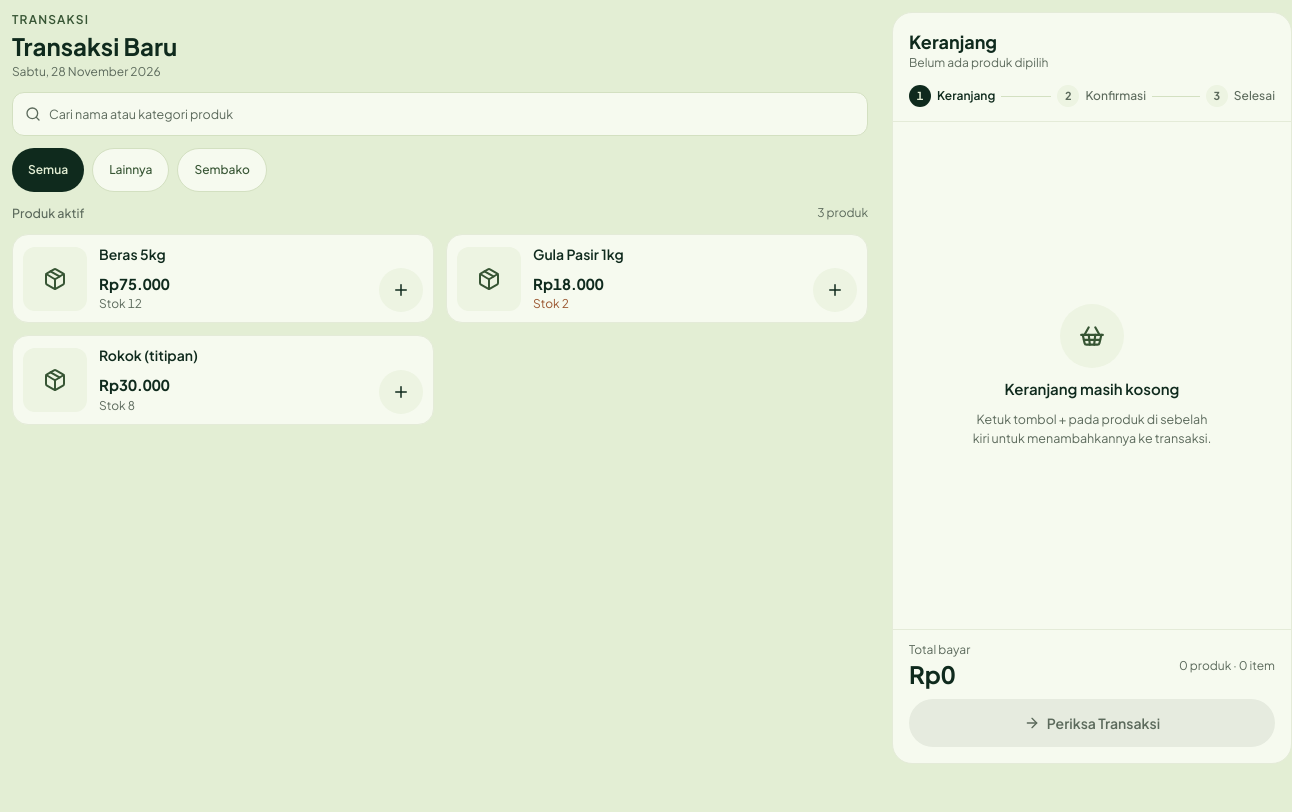
Test: POS md+ (panel checkout) › mengubah isi saat konfirmasi kembali ke langkah Keranjang
This screenshot has width=1292, height=812.
Step 1. Click the button named "Tambah Beras 5kg" → (401, 290), box [379,268,423,312]
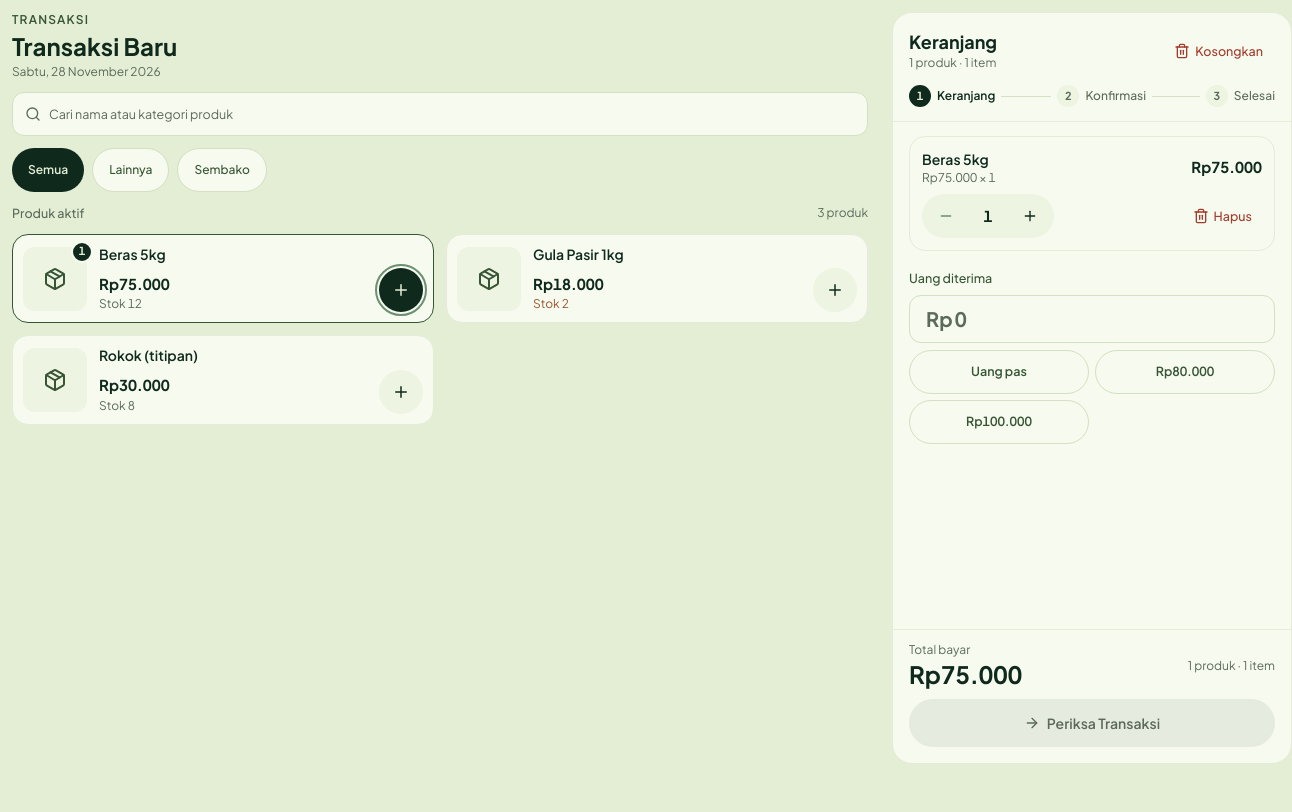
Step 2. Click the button "Uang pas" → (999, 372), box [909,350,1089,394]
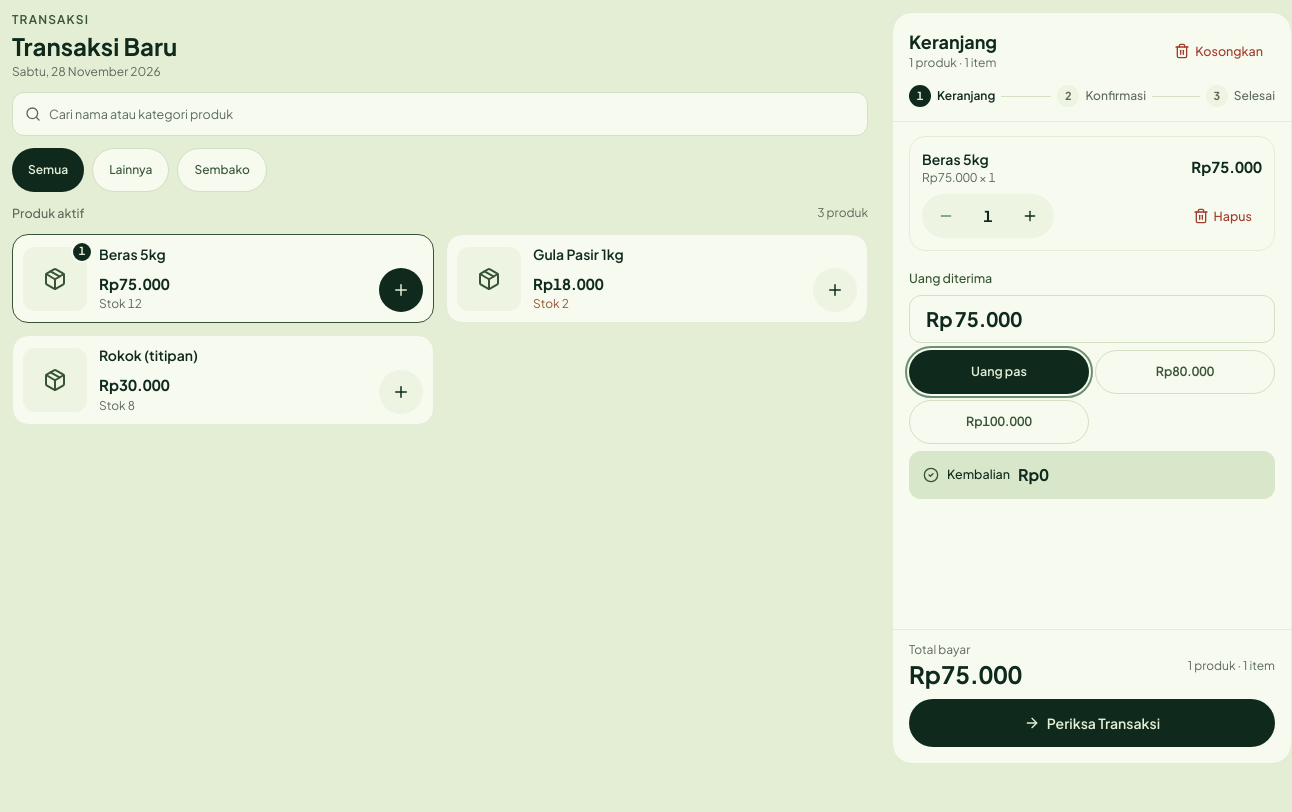
Step 3. Click the button "Periksa Transaksi" → (1092, 723), box [909,699,1275,747]
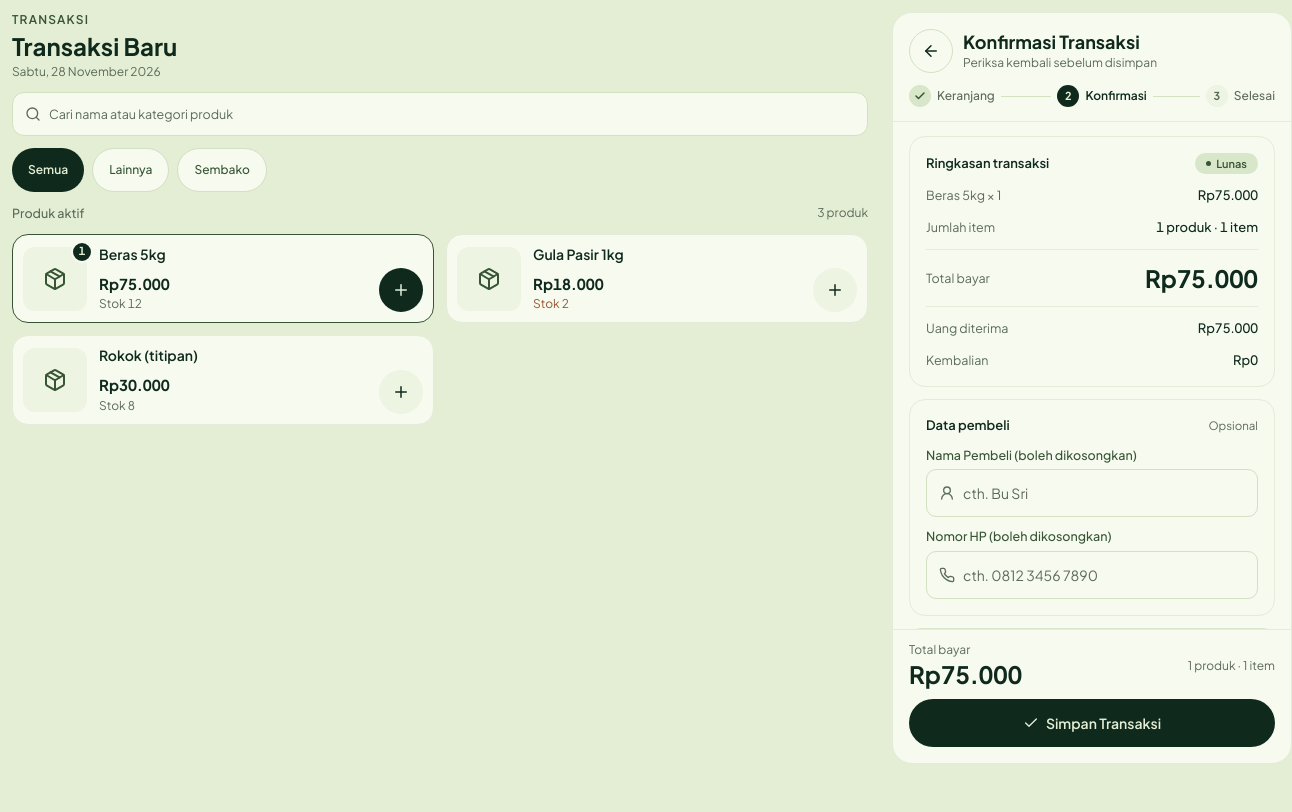
Expected: the heading "Konfirmasi Transaksi" is shown, [963,30,1140,53]
Step 4. Click the button named "Tambah Beras 5kg" → (401, 290), box [379,268,423,312]
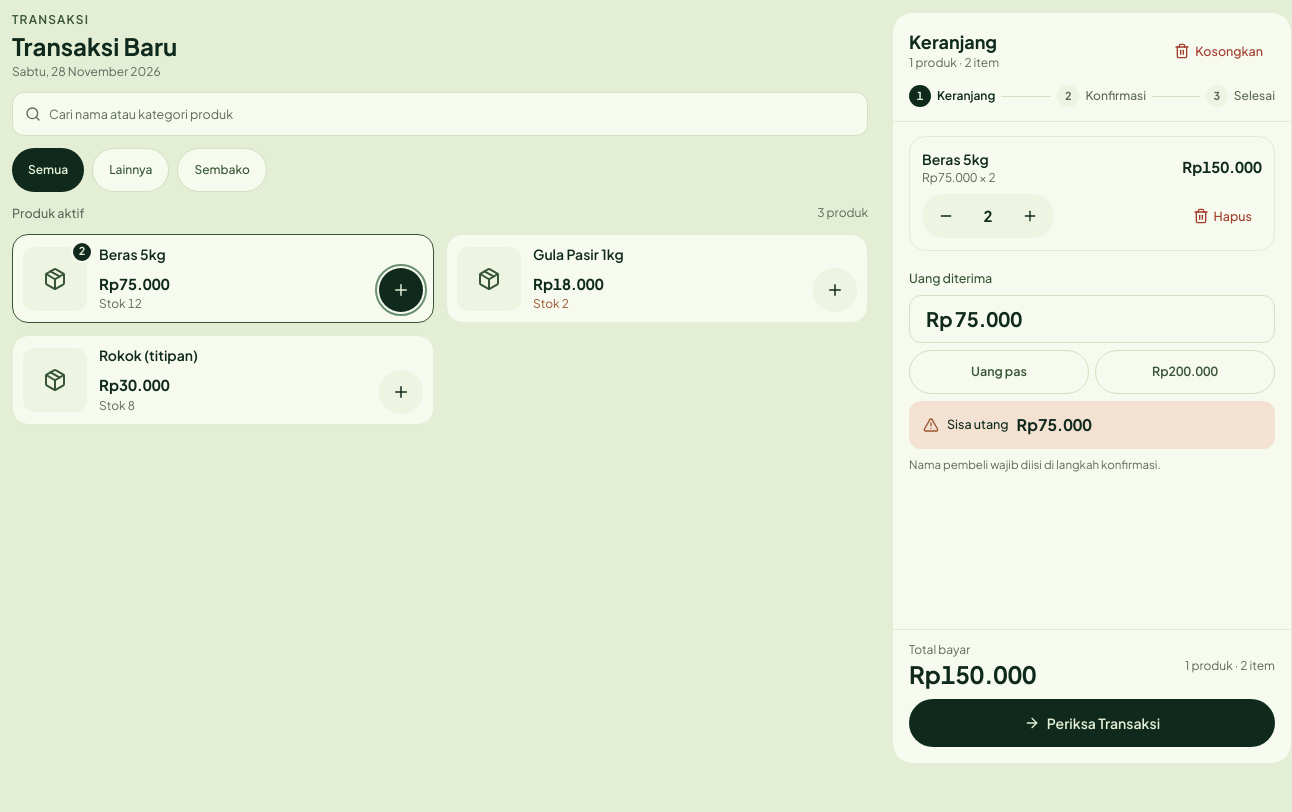
Expected: the heading "Keranjang" is shown, [909,30,997,53]
Expected: the text "Rp75.000 × 2" is shown, [922,170,996,185]
